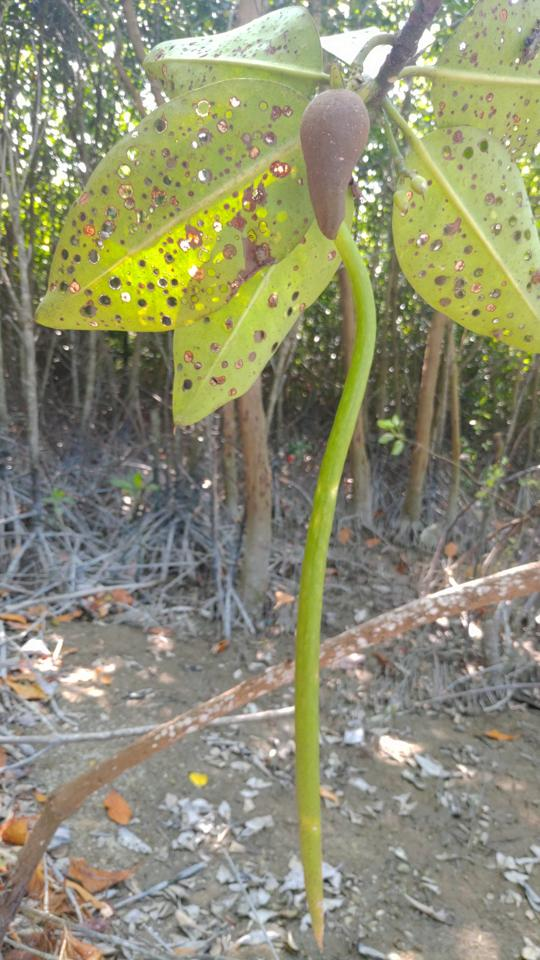mentah: (283, 55, 385, 955)
